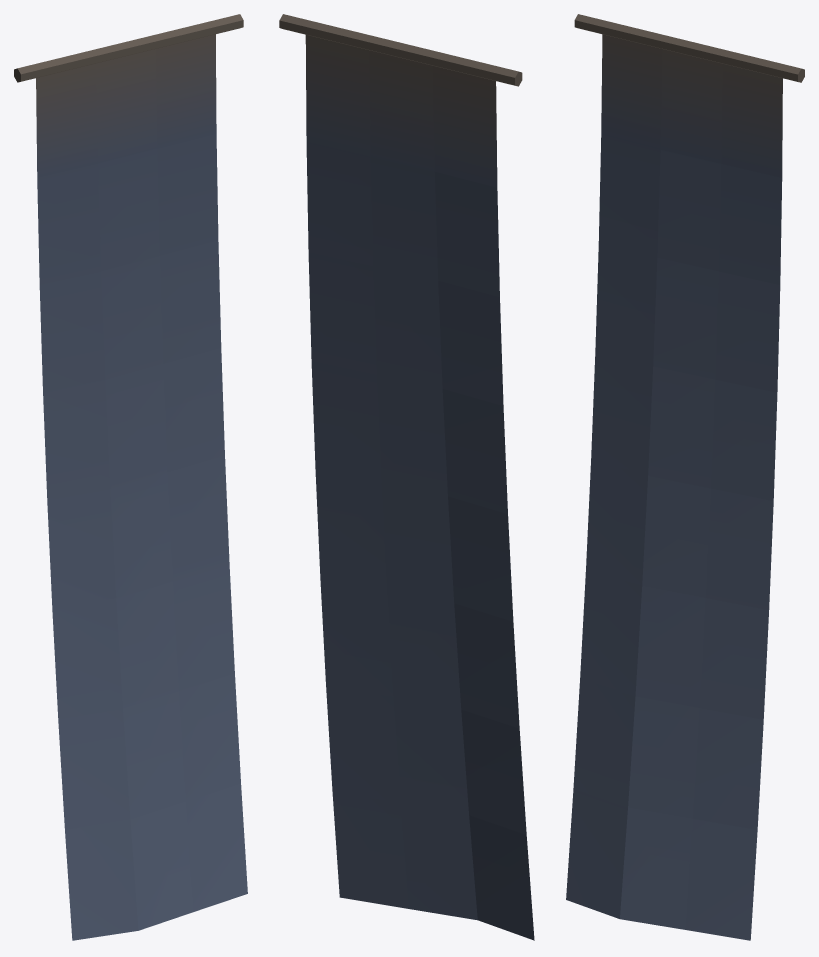
Rendered from prop_somenuno.glb.
3 views of the same model, side by side, from view 1: azimuth 30°, elevation 25°; view 2: azimuth 150°, elevation 25°; view 3: azimuth 330°, elevation 25° (orthographic). The views are drawn at different scales.
Visible parts, largest first — view 1: prop_somenuno; view 2: prop_somenuno; view 3: prop_somenuno.
Part boxes in pixels (x1,y1,x2,y2): prop_somenuno: (14, 14, 247, 940); prop_somenuno: (279, 14, 534, 940); prop_somenuno: (566, 14, 804, 940).
Bounding box in the file's own units: 0.52 × 1.9 × 0.1866.
